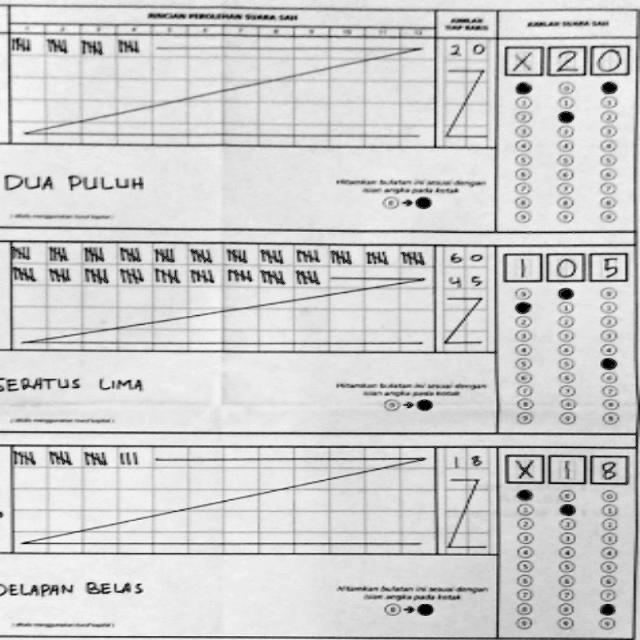Suara: (498, 41, 632, 78), (498, 246, 628, 282), (502, 450, 630, 486)
